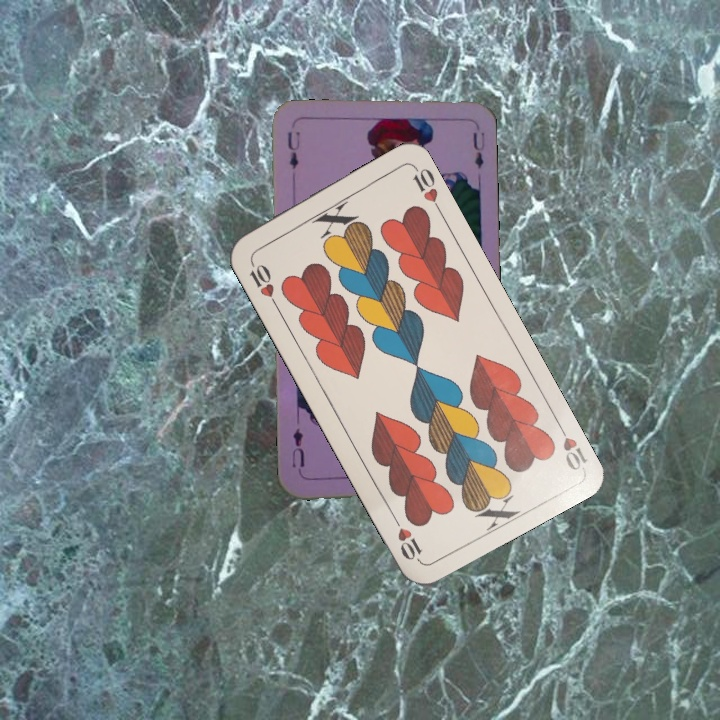EU: (283, 127, 303, 172)
H10: (551, 417, 590, 474), (245, 255, 281, 310)
